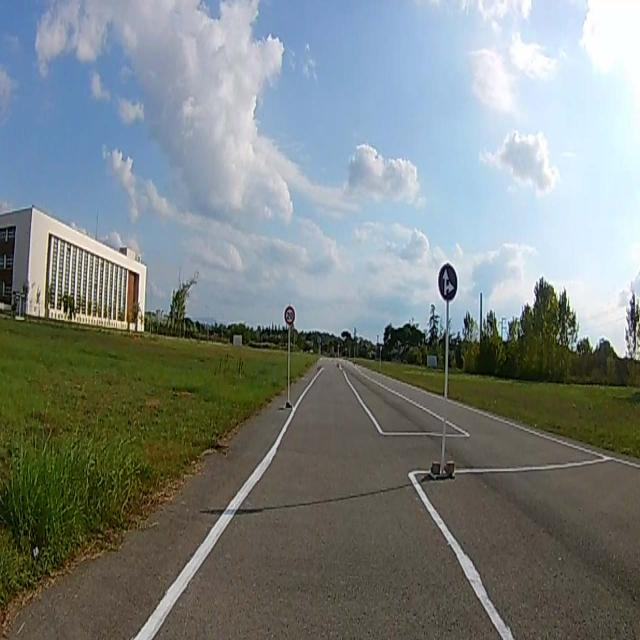20: (284, 306, 294, 325)
ilerisag: (438, 264, 458, 300)
